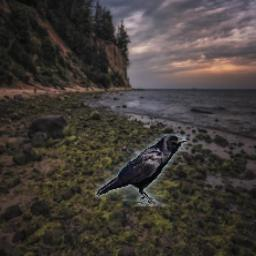Crow: (96, 135, 188, 208)
